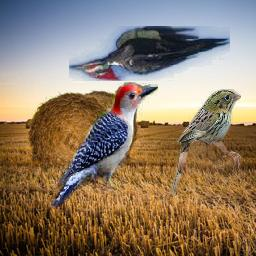Sparrow: (169, 89, 242, 197)
Woodpecker: (52, 83, 159, 208), (70, 27, 231, 82)
